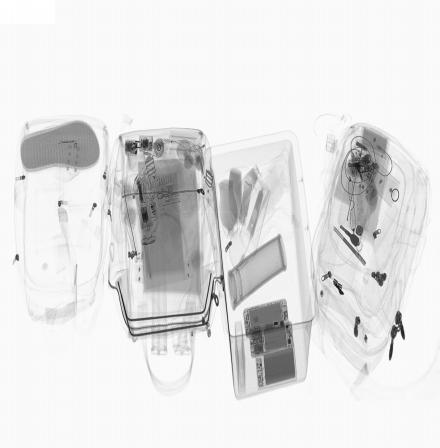Powerbank: (256, 346, 298, 391)
